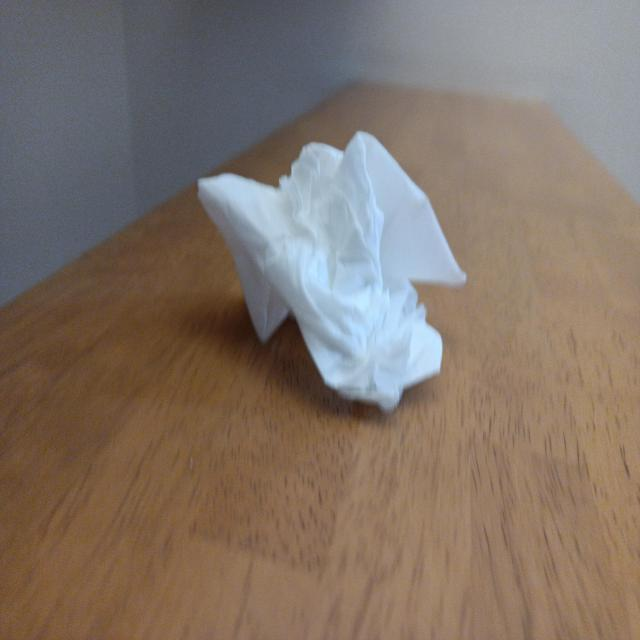Paper: (217, 130, 445, 414)
